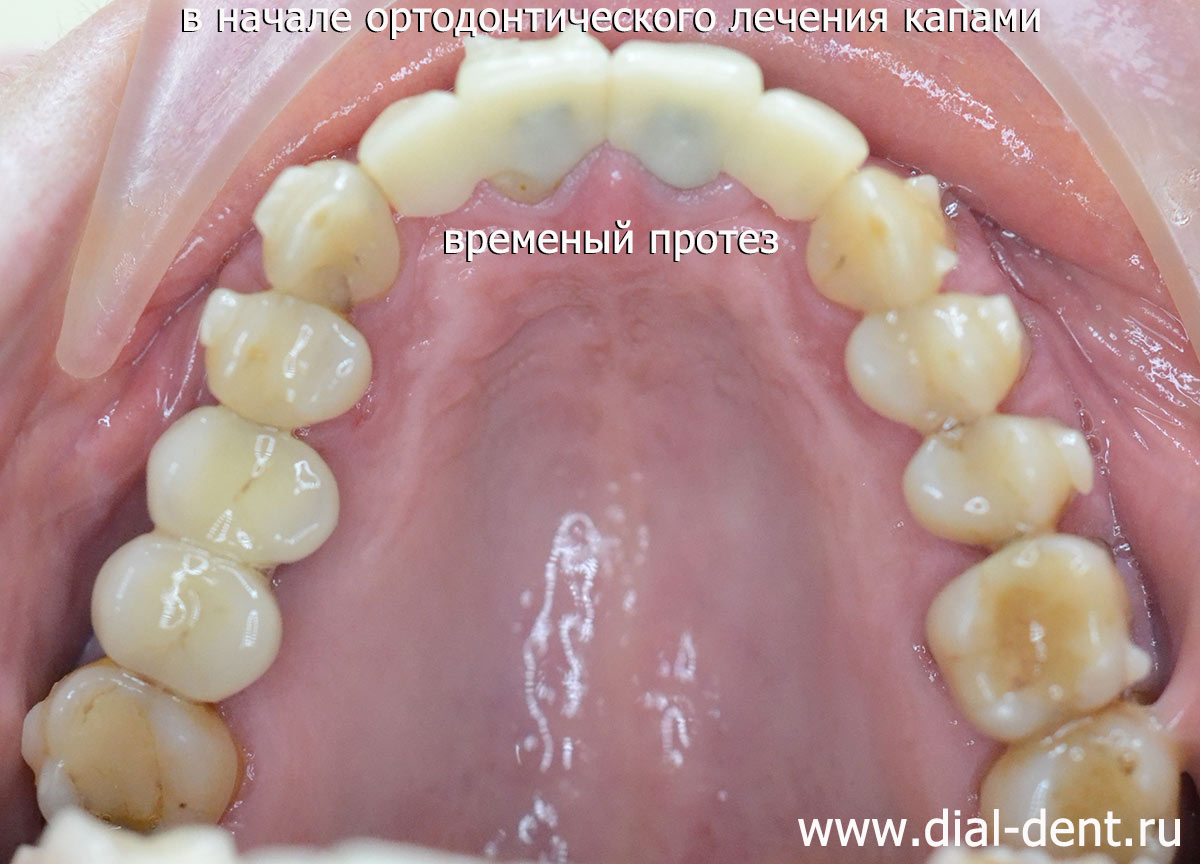UL1BC_healthy: (844, 296, 1022, 426)
UL1M_decay: (924, 547, 1140, 708)
UL2BC_healthy: (917, 424, 1084, 537)
ULCI_decay: (608, 42, 749, 181)
ULC_healthy: (811, 176, 953, 300)
ULLI_decay: (756, 99, 858, 219)
UR1BC_healthy: (209, 294, 373, 421)
UR1M_healthy: (98, 547, 280, 696)
UR2BC_healthy: (150, 419, 339, 559)
UR2M_decay: (34, 680, 236, 821)
URCI_decay: (461, 48, 608, 189)
URC_decay: (273, 167, 398, 312)
URLI_healthy: (373, 95, 474, 217)
